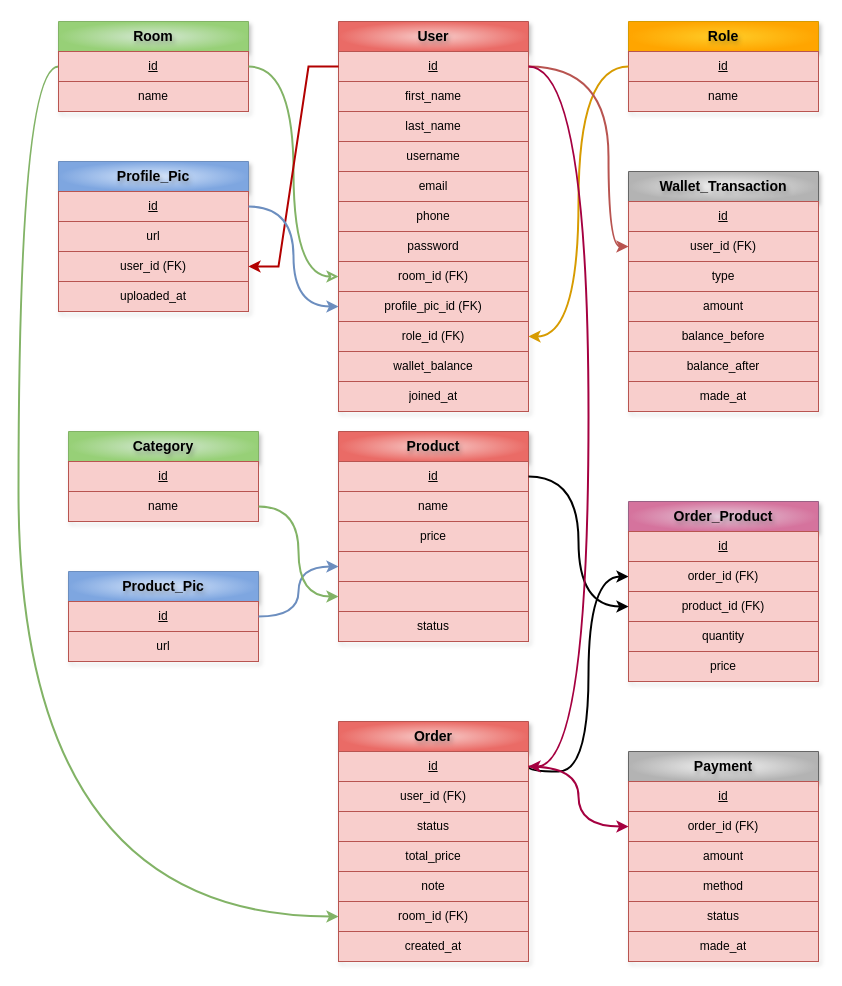
Some shapes in this 842 by 986 pixel diagram are drawn without their labels. The shapes that lost their labels are listed below. From the top down, each one's centre as x and y in pixels, then its label:
At point 433,566: "product_pic_id (FK)".
At point 433,596: "category_id (FK)".
